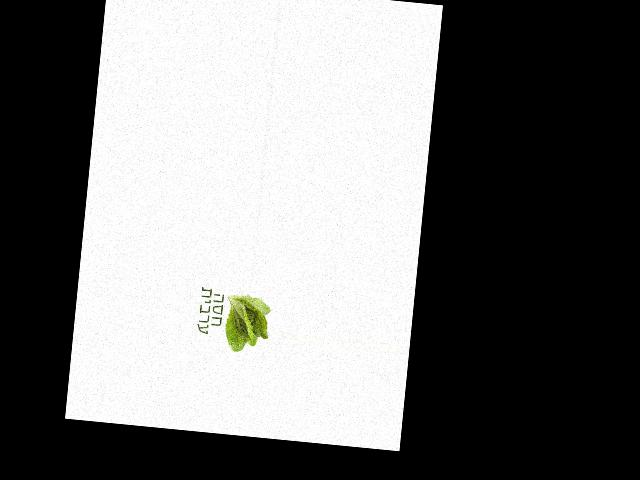lettuce: (217, 289, 272, 355)
